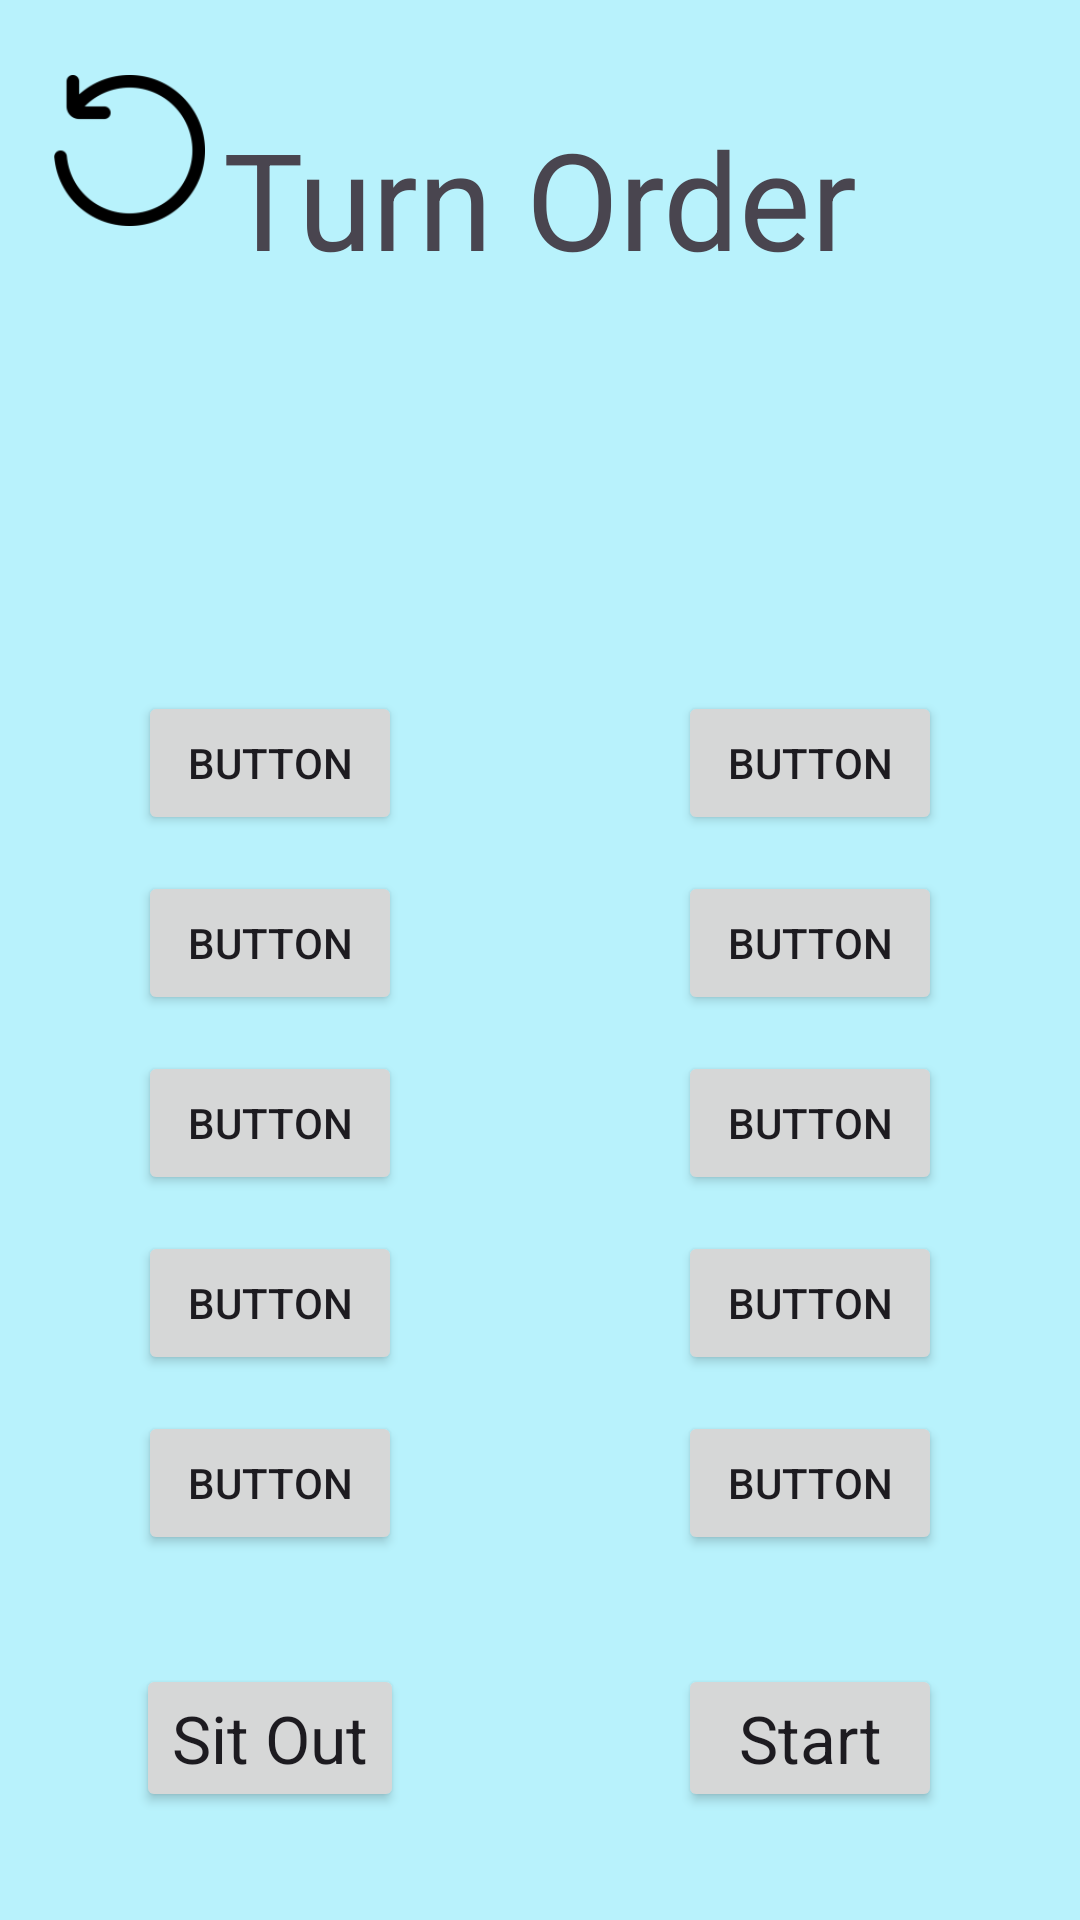

Named icons in this screenshot (1080w x 1920h) and their centers, (x,y):
rotate left: (129,150)
